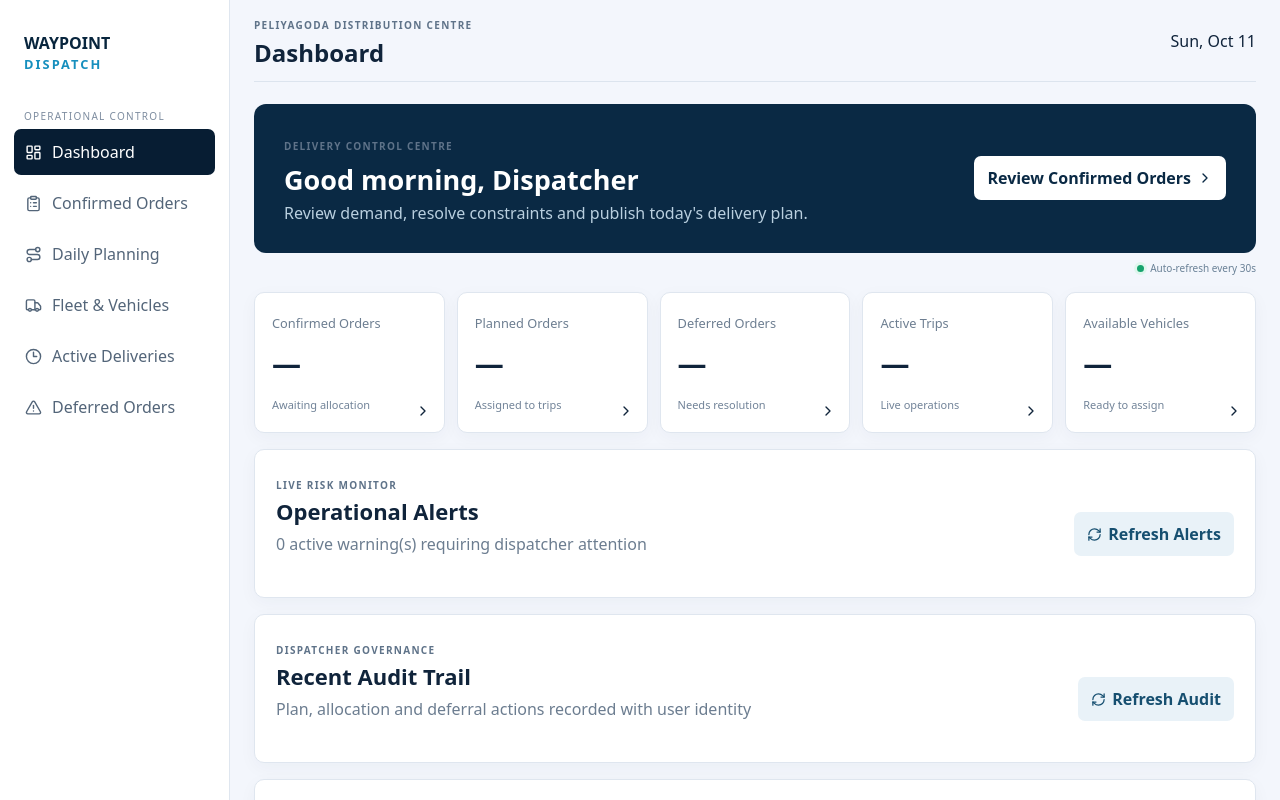
Test case: DispatcherPortal › revalidates a manual vehicle assignment before publishing
The image size is (1280, 800).
Click the button "Daily Planning". click: click(114, 254)
box: [14,231,215,277]
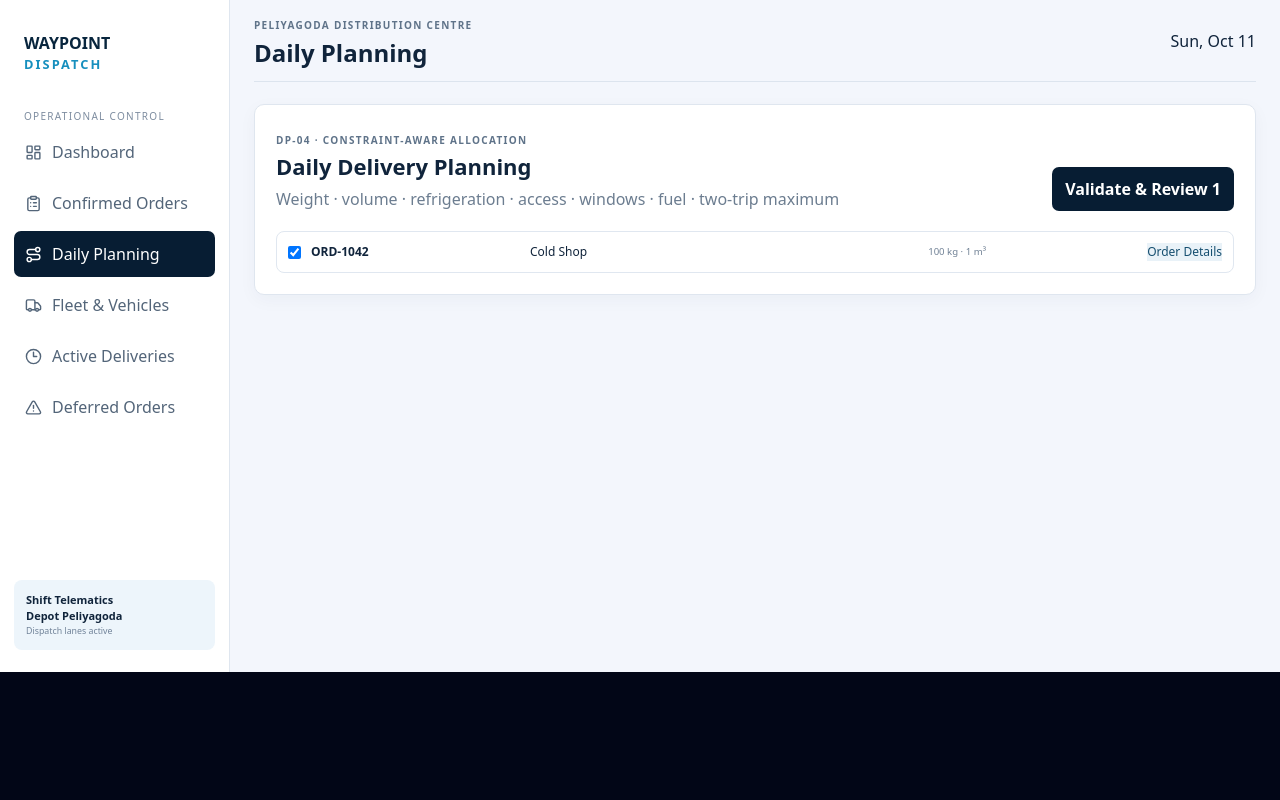
Result: the text "ORD-1042" is shown at [311,243,369,260]
Click the button "Validate & Review 1". click: click(1143, 189)
box: [1052,167,1234,211]
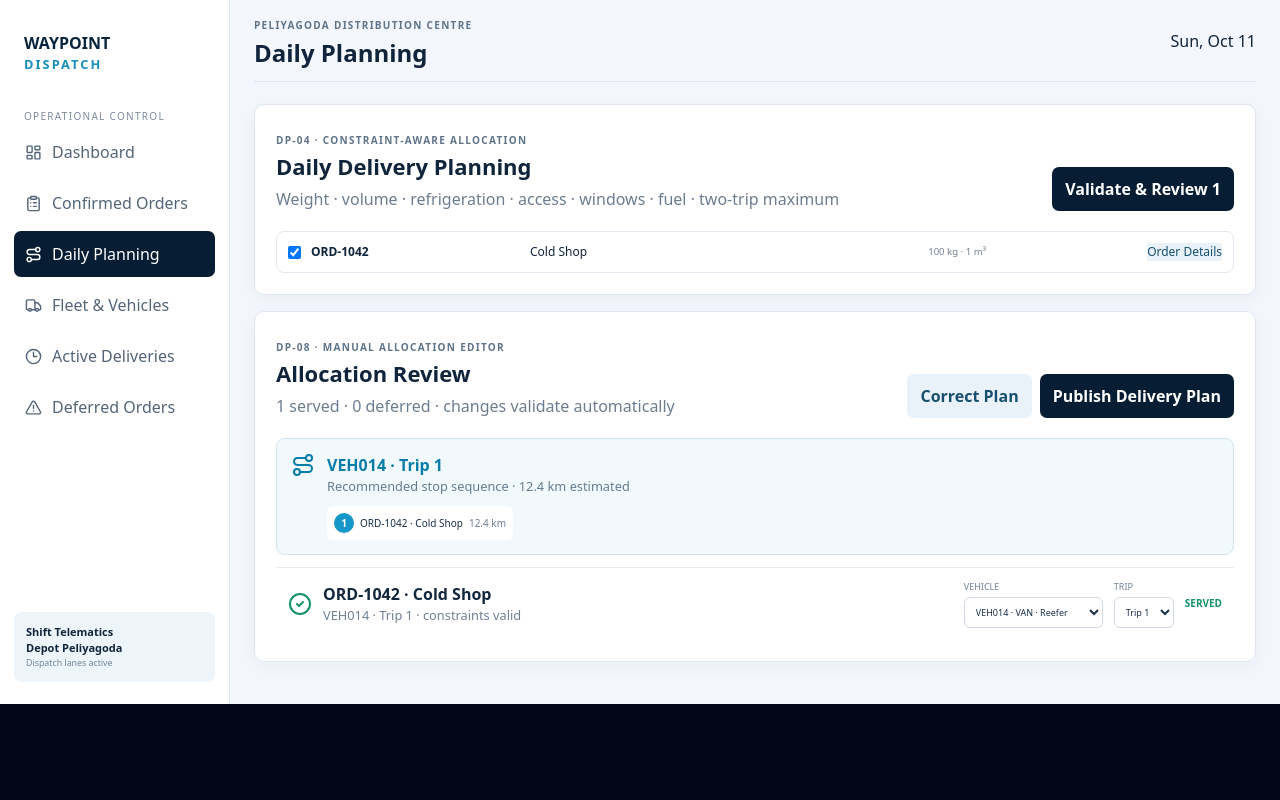
Result: the heading "Allocation Review" is shown at [276,358,471,388]
Result: the text "Recommended stop sequence · 12.4 km estimated" is shown at [327,477,630,495]
Select "VEH015 · TRUCK · Reefer" in the dropdown named "Vehicle for ORD-1042". click: (1033, 612)
box: [964,597,1103,628]
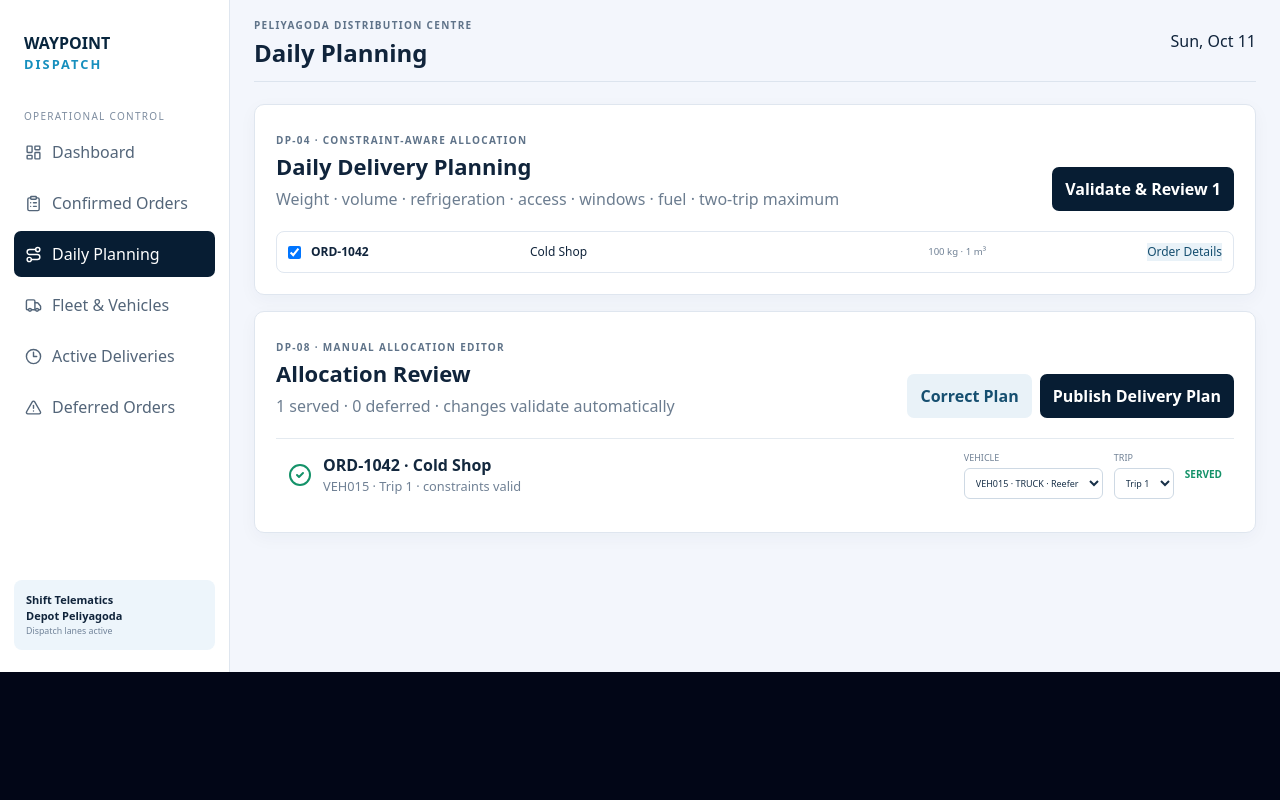
Result: the text "VEH015 · Trip 1 · constraints valid" is shown at [323,477,521,495]
